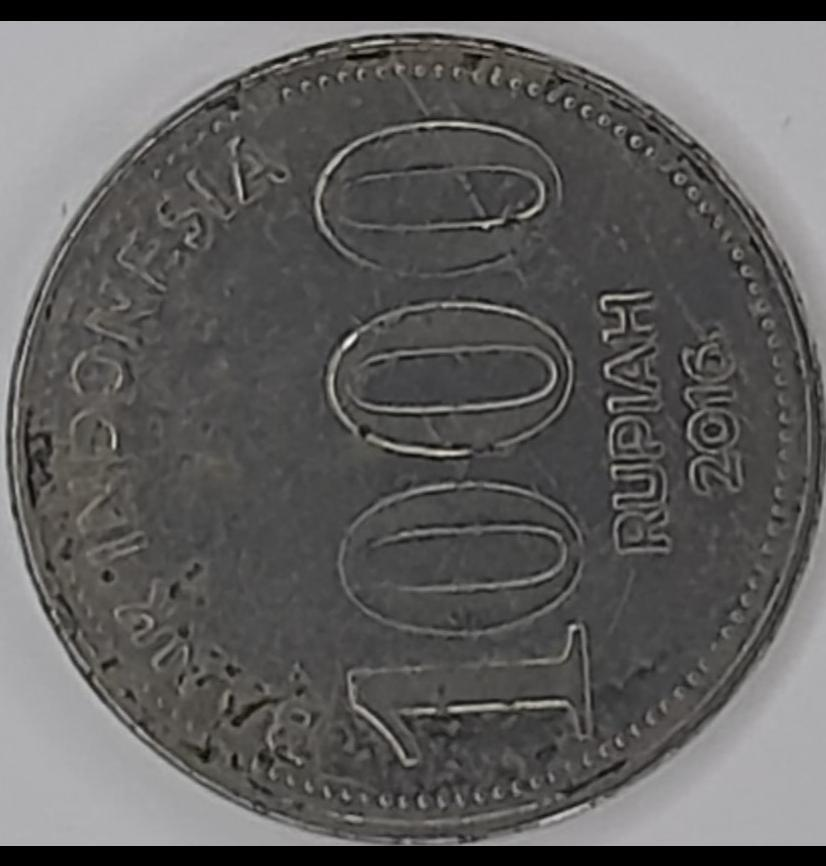coin_1000_e2016: (14, 17, 815, 866)
